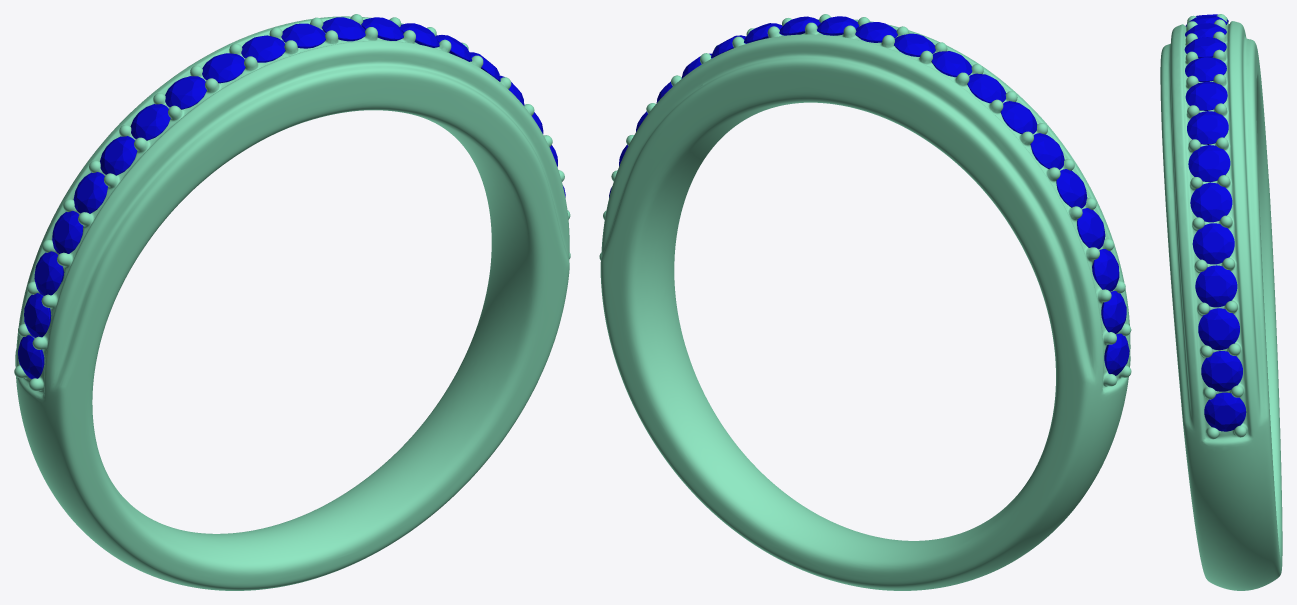
The picture shows the model from 3 angles, left to right: view 1: azimuth 30°, elevation 25°; view 2: azimuth 150°, elevation 25°; view 3: azimuth 270°, elevation 25°; orthographic projection. The views are drawn at different scales.
Visible parts, largest first — view 1: Metal03, Diamond_Band.009, Diamond_Band, Diamond_Band.008, Diamond_Band.001, Diamond_Band.007, Diamond_Band.004, Diamond_Band.002, Diamond_Band.003, Diamond_Band.006, Diamond_Band.010, Diamond_Band.005 (+1 smaller); view 2: Metal03, Diamond_Band.008, Diamond_Band.009, Diamond_Band.007, Diamond_Band.004, Diamond_Band, Diamond_Band.001, Diamond_Band.006, Diamond_Band.002, Diamond_Band.005, Diamond_Band.003; view 3: Metal03, Diamond_Band.017, Diamond_Band.018, Diamond_Band.016, Diamond_Band.019, Diamond_Band.015, Diamond_Band.020, Diamond_Band.014, Diamond_Band.013, Diamond_Band.012, Diamond_Band.011, Diamond_Band.010 (+2 smaller).
Boxes of the visible parts, box(x1,y1,x2,y2) form: Metal03: box(14, 14, 570, 590); Diamond_Band.009: box(100, 136, 137, 175); Diamond_Band: box(130, 104, 170, 140); Diamond_Band.008: box(73, 172, 107, 213); Diamond_Band.001: box(165, 76, 206, 109); Diamond_Band.007: box(52, 211, 83, 253); Diamond_Band.004: box(34, 251, 64, 295); Diamond_Band.002: box(202, 53, 245, 83); Diamond_Band.003: box(241, 35, 285, 62); Diamond_Band.006: box(24, 293, 51, 337); Diamond_Band.010: box(281, 23, 325, 48); Diamond_Band.005: box(18, 335, 44, 378); Metal03: box(599, 14, 1131, 590); Diamond_Band.008: box(1056, 169, 1087, 208); Diamond_Band.009: box(1030, 133, 1064, 169); Diamond_Band.007: box(1077, 208, 1105, 249); Diamond_Band.004: box(1092, 249, 1119, 291); Diamond_Band: box(1000, 101, 1037, 134); Diamond_Band.001: box(967, 73, 1006, 103); Diamond_Band.006: box(1101, 291, 1126, 333); Diamond_Band.002: box(931, 51, 972, 77); Diamond_Band.005: box(1104, 333, 1129, 375); Diamond_Band.003: box(894, 33, 935, 56); Metal03: box(1160, 14, 1282, 590); Diamond_Band.017: box(1195, 265, 1237, 307); Diamond_Band.018: box(1198, 308, 1239, 350); Diamond_Band.016: box(1192, 223, 1234, 264); Diamond_Band.019: box(1201, 351, 1242, 391); Diamond_Band.015: box(1190, 182, 1232, 222); Diamond_Band.020: box(1204, 392, 1246, 431); Diamond_Band.014: box(1188, 145, 1230, 182); Diamond_Band.013: box(1187, 111, 1228, 144); Diamond_Band.012: box(1185, 81, 1227, 110); Diamond_Band.011: box(1185, 56, 1226, 81); Diamond_Band.010: box(1184, 37, 1226, 58).
Bounding box in the file's own units: 22.02 × 22.03 × 4.66.
